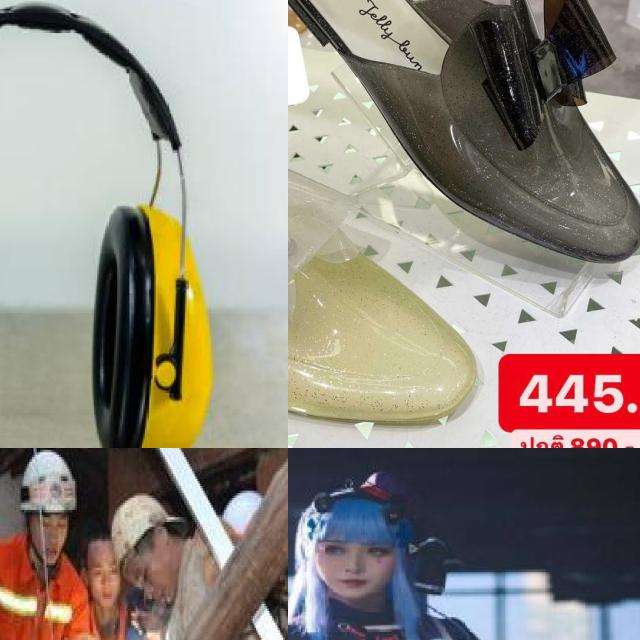Ear-protection: (0, 26, 209, 448)
No_Glasses: (316, 541, 390, 563)
Sandals: (288, 0, 640, 292), (288, 168, 486, 439)
face_nomask: (313, 523, 389, 614), (30, 512, 72, 563), (130, 563, 177, 607), (90, 558, 123, 607)
head_helmet: (16, 448, 78, 517), (105, 494, 164, 559)
head_nohelmet: (289, 477, 413, 557)
person: (288, 448, 570, 640), (105, 497, 288, 640), (0, 448, 96, 640)
